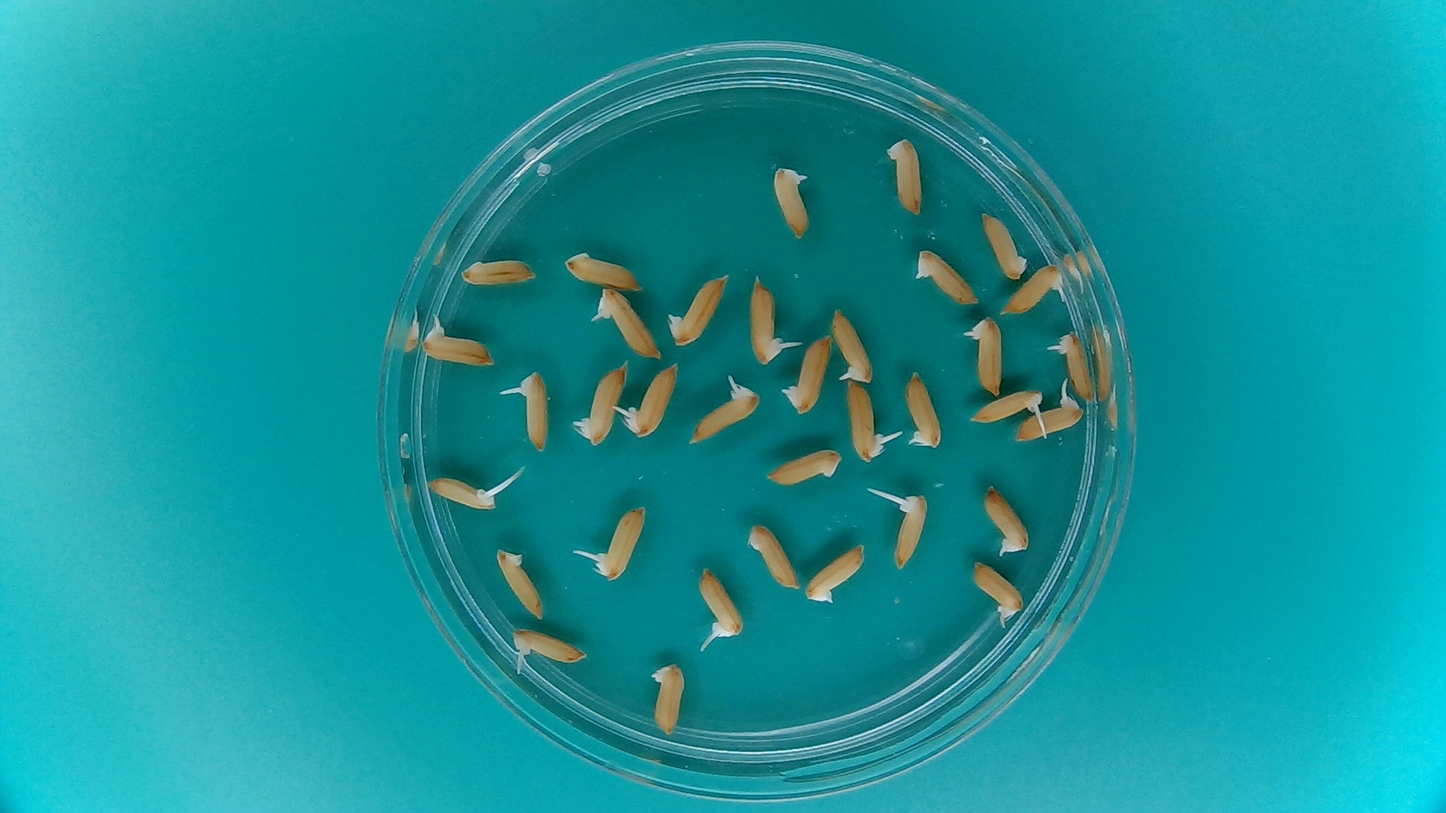no: (779, 332, 834, 418), (493, 544, 548, 623), (910, 246, 980, 307), (744, 519, 801, 592), (803, 541, 868, 605), (979, 209, 1030, 284), (762, 443, 846, 488), (883, 133, 926, 219), (562, 248, 640, 291), (646, 659, 688, 738), (459, 251, 538, 288)
yes: (667, 273, 725, 349), (828, 302, 877, 384), (598, 290, 657, 356), (596, 504, 647, 580), (960, 312, 1005, 398), (692, 385, 759, 442), (694, 564, 744, 639), (578, 367, 624, 447), (981, 485, 1031, 558), (628, 364, 676, 435), (1000, 263, 1063, 316), (965, 384, 1046, 425), (745, 282, 783, 369), (970, 559, 1025, 617), (843, 376, 880, 461), (418, 327, 493, 368), (1057, 330, 1099, 402), (1017, 399, 1085, 443), (892, 489, 931, 565), (904, 370, 943, 446), (770, 169, 810, 241), (424, 474, 495, 513), (511, 629, 587, 665), (522, 365, 552, 450)
